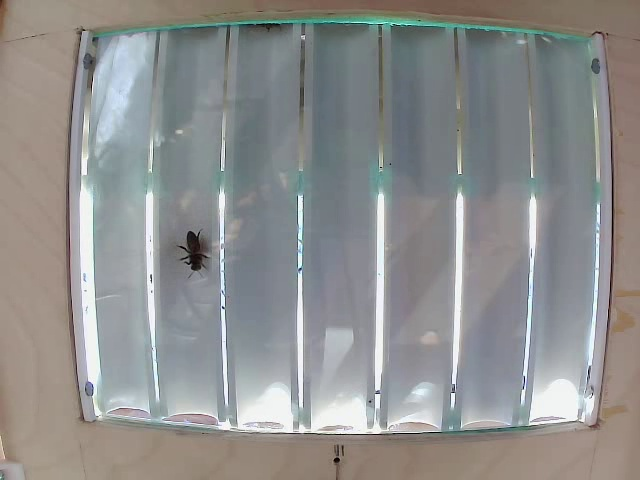bee: (184, 230, 222, 279)
